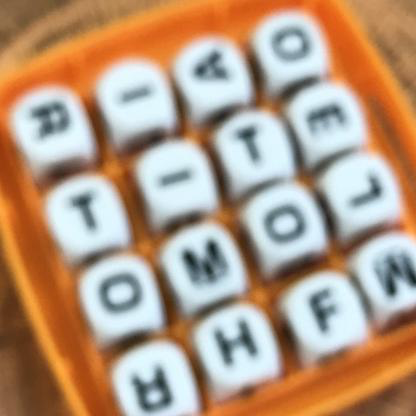a: (183, 42, 240, 97)
e: (296, 89, 360, 152)
f: (294, 276, 357, 344)
h: (198, 305, 279, 377)
i: (138, 137, 211, 209), (104, 59, 168, 120)
l: (341, 158, 395, 219)
m: (170, 232, 236, 301), (360, 242, 416, 308)
o: (254, 184, 320, 254), (83, 265, 153, 329), (259, 18, 320, 69)
r: (113, 347, 205, 416), (15, 92, 82, 158)
t: (46, 177, 124, 255), (216, 118, 294, 174)
